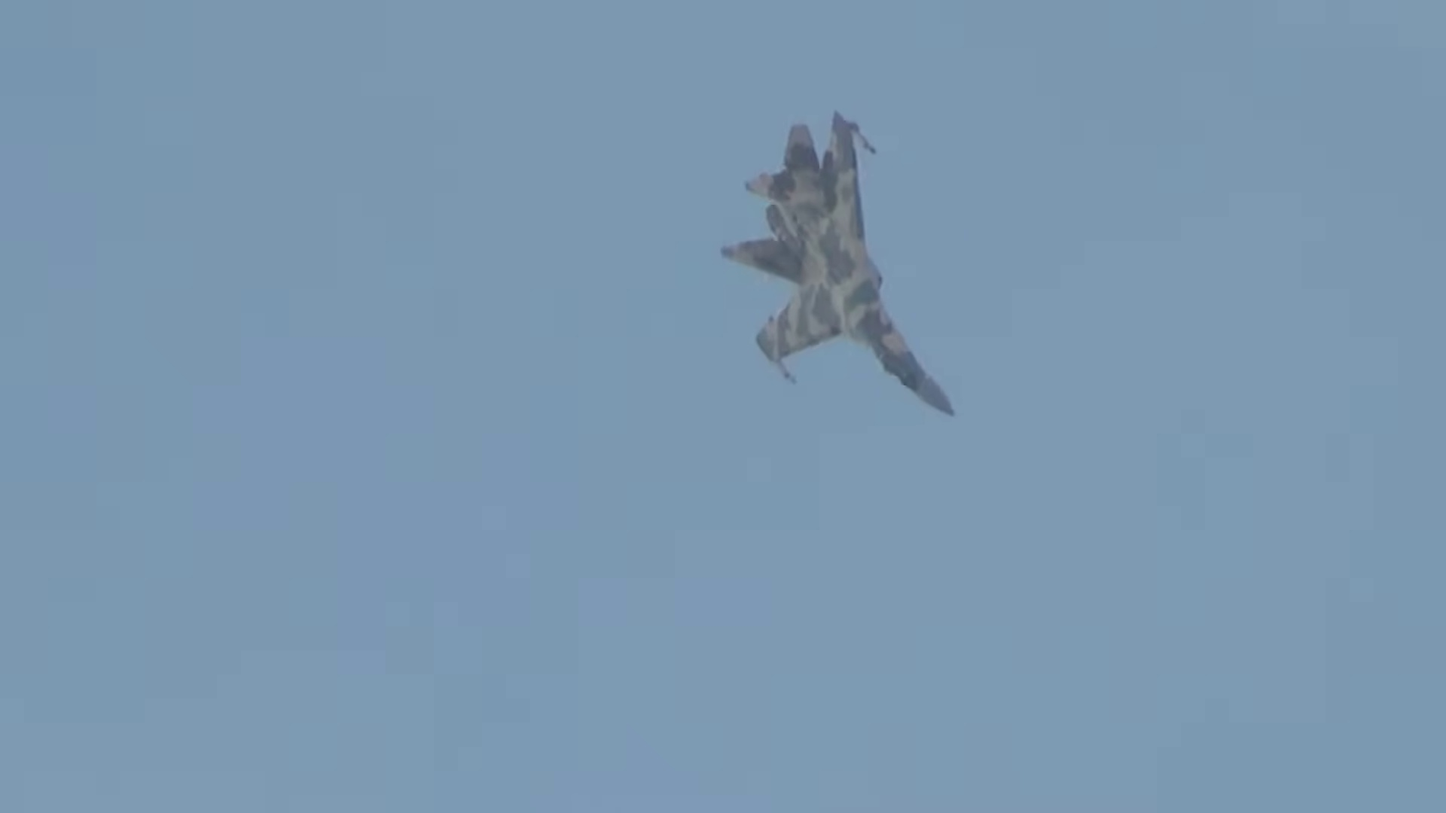Su35: (683, 100, 965, 440)
